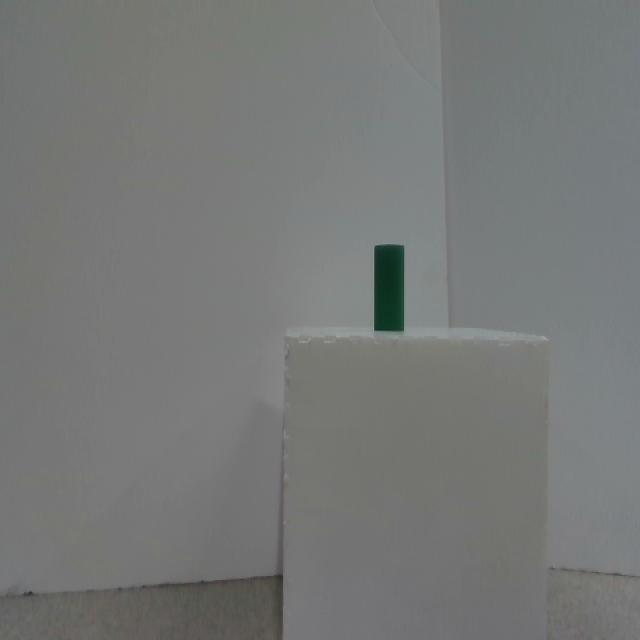green_cylinder: (374, 245, 404, 332)
